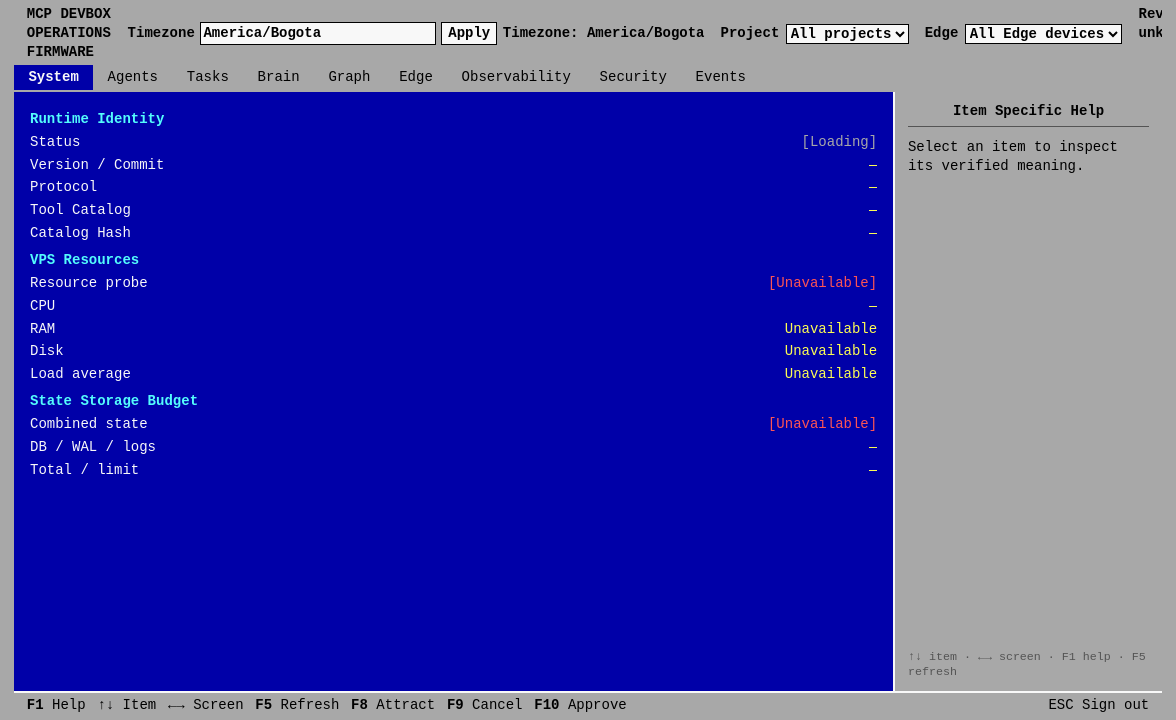
Neo-BIOS operations firmware › uses persistent events, reconnects from Last-Event-ID and cleans resources
The image size is (1176, 720).
Click the tab "Events" at (721, 78), box [681,65,760,90]
Wait 1000 ms
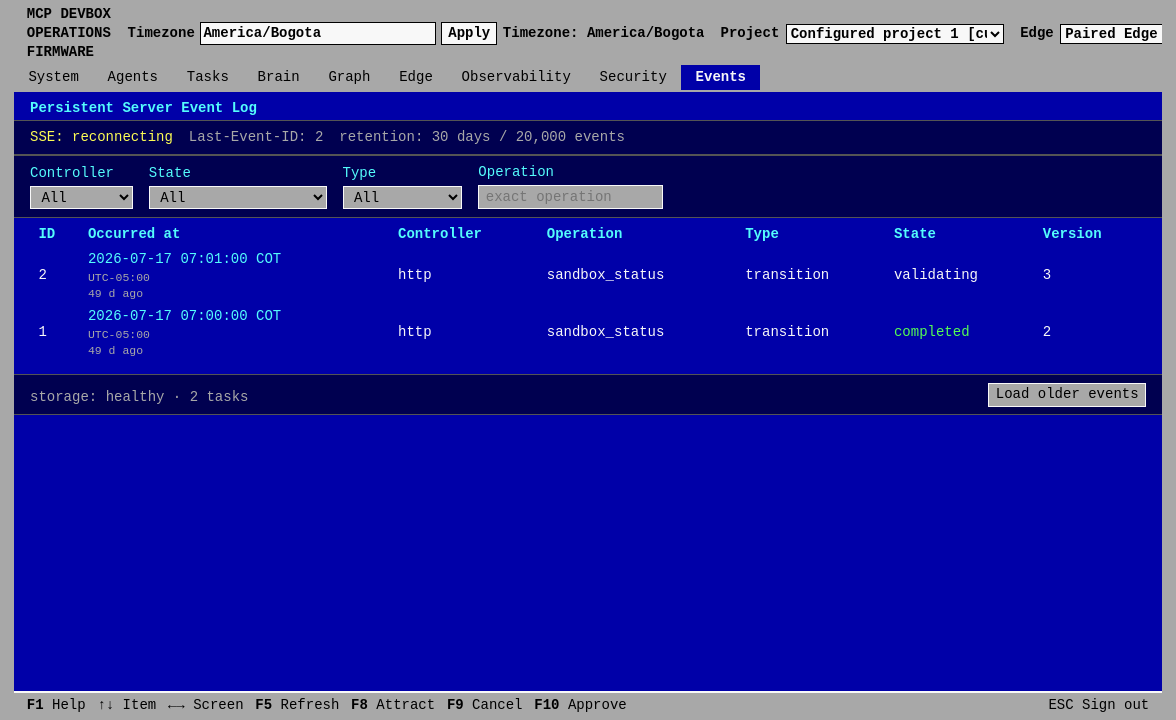
Now the text "SSE: live" is shown, box [30,128,173,147]
Now the text "Last-Event-ID: 2" is shown, box [189,128,323,147]
Now the number of elements titled "2026-07-17T12:01:00.005Z" is 1, box [88,250,281,269]
